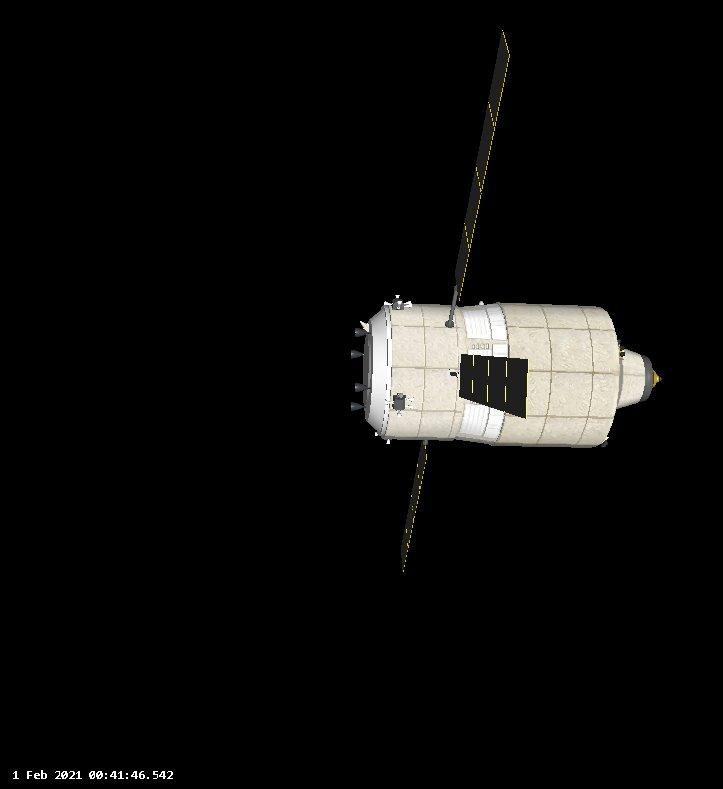body: (363, 302, 620, 449)
solar: (454, 126, 495, 302), (459, 353, 529, 420), (400, 441, 428, 574)
thruster: (350, 347, 366, 361), (355, 382, 370, 394), (354, 326, 370, 337), (350, 401, 365, 412), (403, 397, 415, 403), (384, 400, 395, 405), (383, 300, 392, 306), (396, 300, 402, 309), (404, 404, 414, 409), (385, 437, 391, 445), (403, 300, 412, 305), (374, 430, 380, 437), (603, 439, 609, 446), (405, 304, 413, 309), (395, 294, 401, 300), (619, 345, 625, 351), (619, 352, 626, 357), (397, 410, 402, 417), (601, 442, 606, 448)
